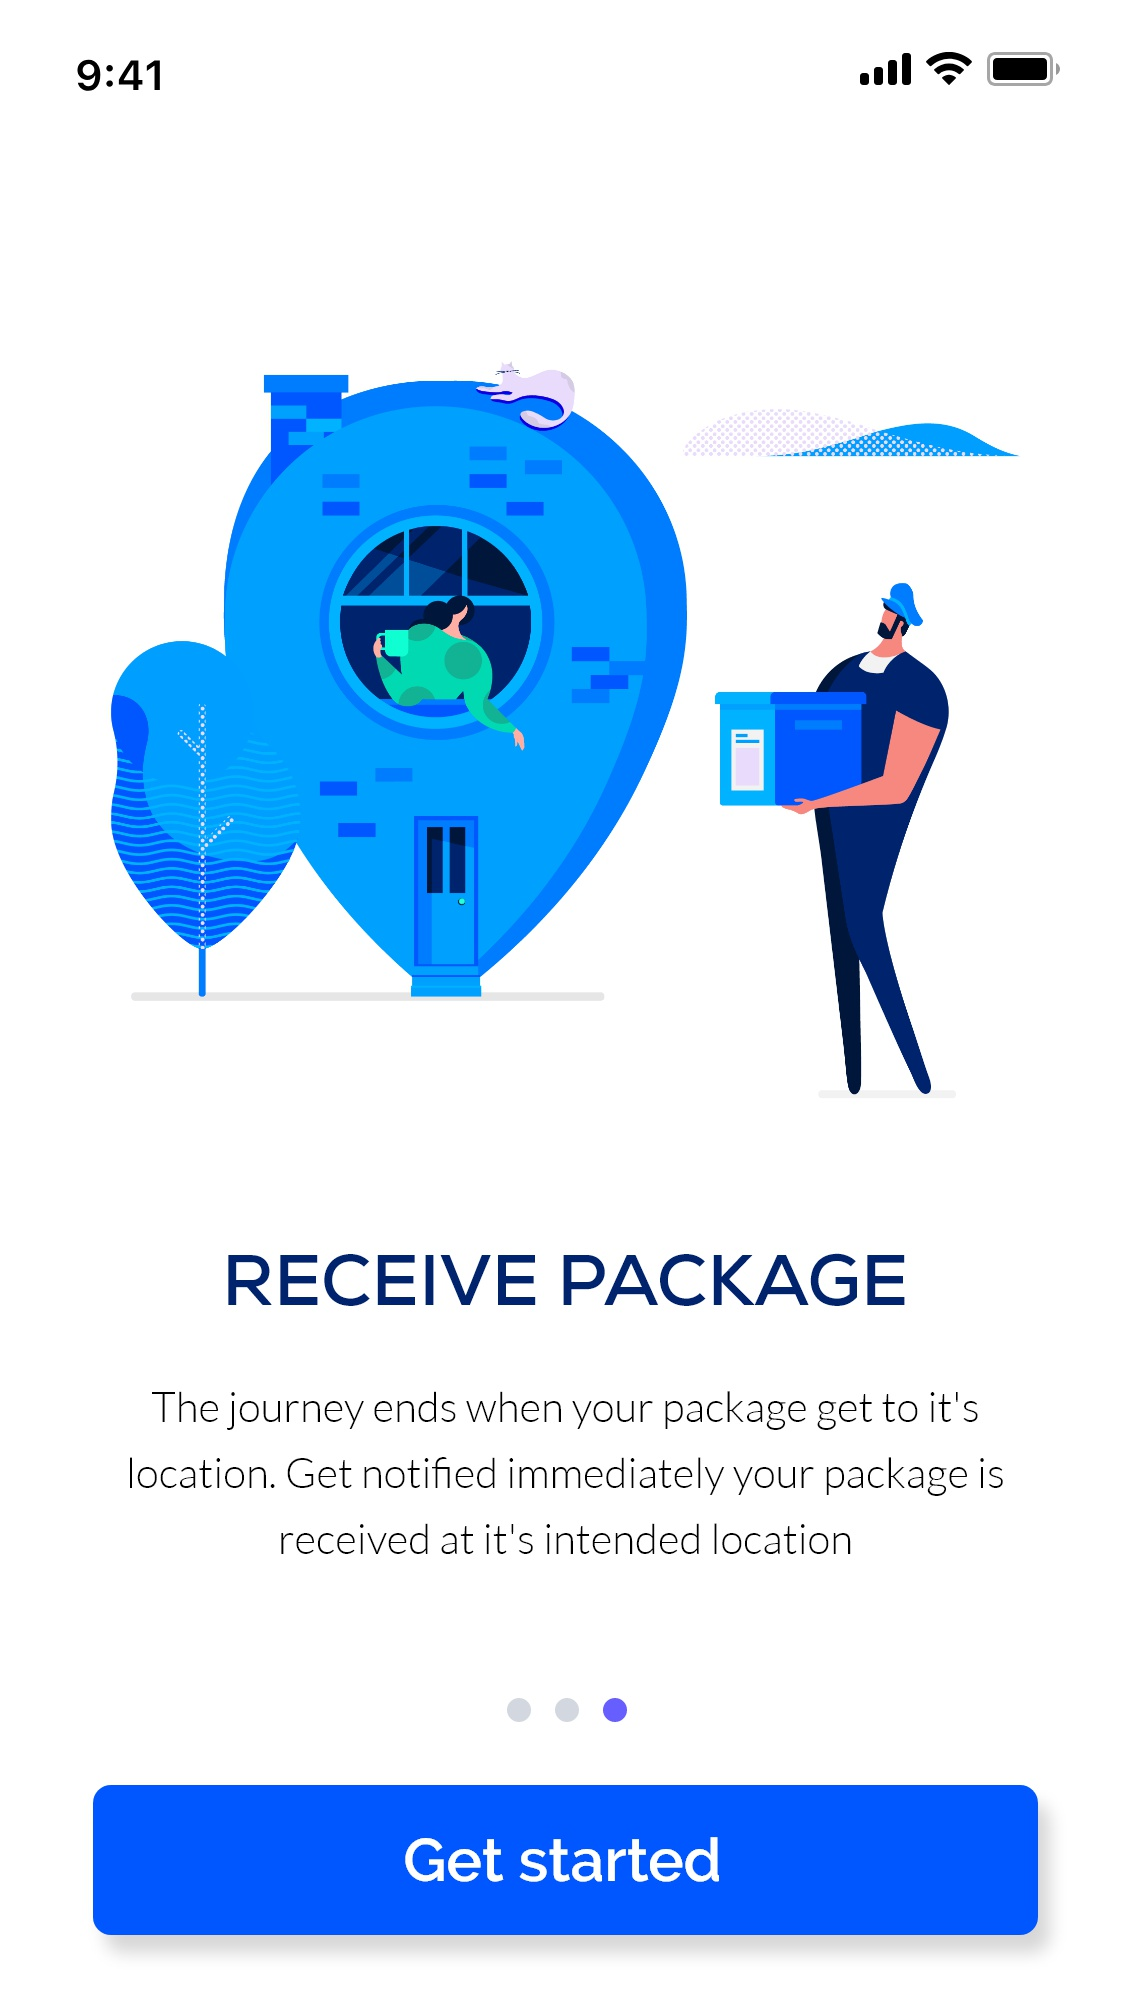Image: (109, 359, 1018, 1101)
PageIndicator: (507, 1696, 629, 1723)
Text: (129, 1391, 1004, 1556), (228, 1253, 907, 1307)
TextButton: (93, 1784, 1038, 1936)
UpperTaskBar: (77, 51, 1060, 93)
